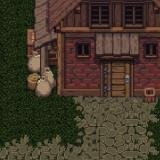Obstacle: (4, 0, 160, 129)
